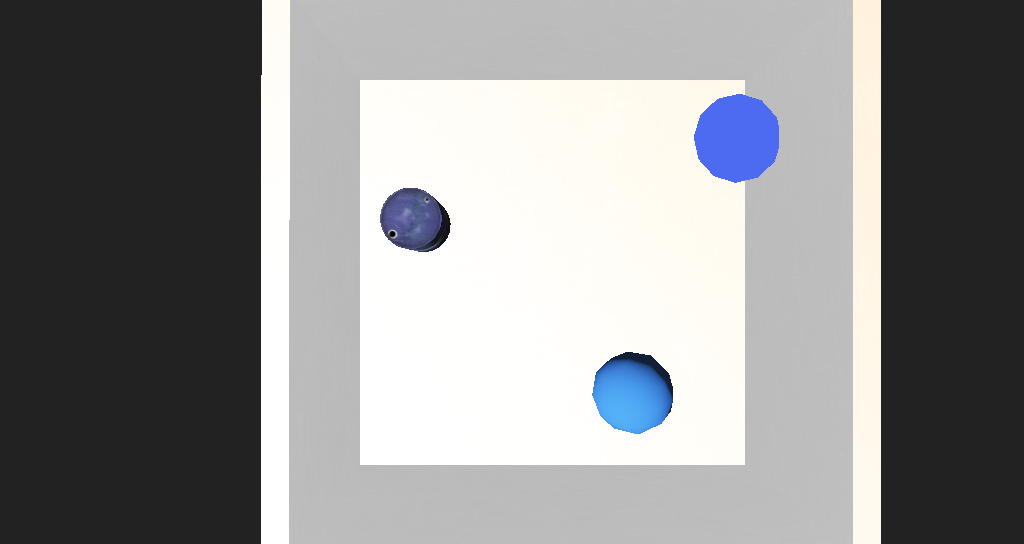cone: (371, 220, 424, 258)
cylinder: (603, 174, 677, 227)
sphere: (532, 313, 600, 356)
